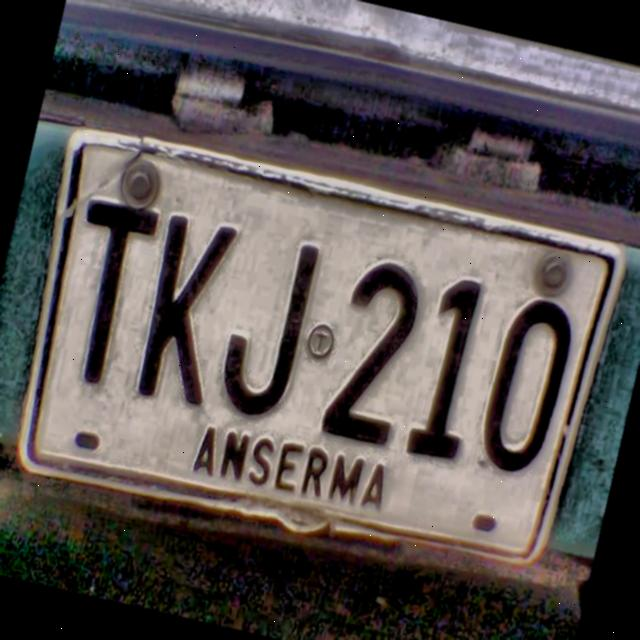0: (471, 279, 589, 488)
1: (399, 267, 495, 471)
2: (314, 249, 434, 452)
J: (211, 220, 329, 427)
K: (131, 201, 250, 414)
T: (59, 188, 168, 399)
